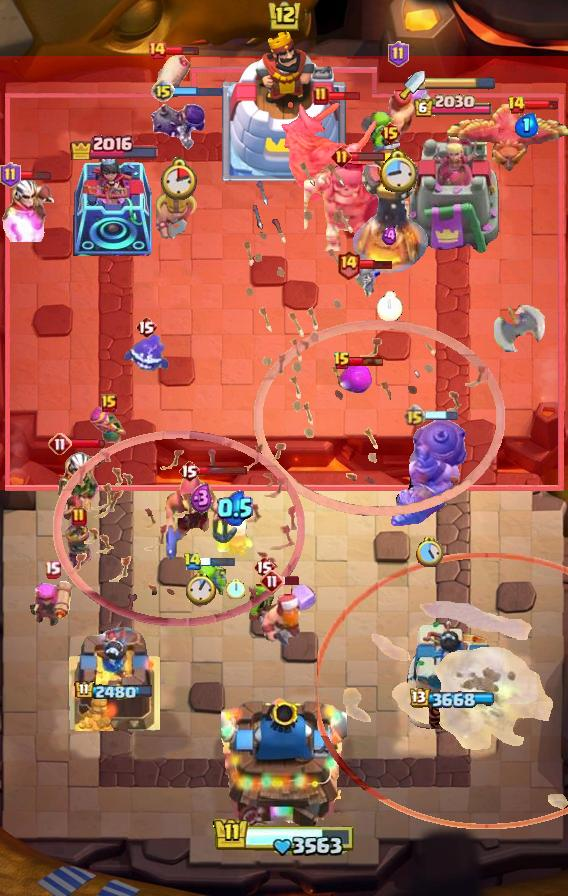bar: (406, 122, 500, 256)
bomber-evolution: (63, 522, 95, 572)
cannon: (90, 406, 128, 454)
clock: (212, 817, 356, 859)
electro-dragon: (351, 148, 429, 276)
electro-giant: (305, 158, 412, 251)
electro-spirit: (217, 490, 253, 526), (191, 483, 214, 514), (515, 113, 539, 139), (382, 225, 398, 247)
elixir: (378, 148, 417, 191), (159, 157, 196, 200), (186, 572, 216, 604), (416, 537, 443, 567), (377, 291, 403, 321), (226, 577, 246, 599)
emote: (172, 86, 224, 99), (198, 465, 248, 476), (200, 555, 237, 568), (523, 99, 559, 111), (349, 355, 385, 367), (423, 410, 459, 422), (70, 438, 106, 450), (327, 90, 362, 102), (16, 169, 51, 181), (349, 150, 386, 161), (164, 45, 200, 56), (358, 259, 394, 270), (281, 574, 301, 585)
fireball: (162, 472, 240, 564)
giant: (148, 52, 194, 104)
goblin: (355, 262, 381, 300)
goblin-ball: (148, 94, 208, 152)
goblin-giant: (154, 184, 198, 242)
golemite: (280, 97, 380, 205)
king-tower: (222, 31, 346, 181), (221, 690, 347, 826)
king-tower-bar: (425, 77, 495, 91)
mighty-miner: (361, 67, 435, 149), (259, 578, 319, 652)
miner: (337, 365, 373, 395)
mother-witch: (444, 104, 568, 178)
queen-tower: (404, 617, 502, 731), (68, 627, 160, 731), (73, 158, 155, 256)
royal-ghost: (317, 553, 567, 829)
royal-giant: (492, 288, 546, 352)
selected: (68, 132, 159, 160), (413, 94, 493, 119), (411, 688, 498, 710), (74, 680, 154, 702)
skeleton-barrel: (242, 158, 506, 518), (53, 429, 305, 627)
skeleton-king: (44, 447, 112, 523), (0, 178, 56, 242)
spear-goblin: (123, 333, 169, 377)
text: (335, 249, 360, 280), (151, 79, 175, 103), (48, 432, 72, 456), (260, 569, 284, 593), (379, 121, 402, 145), (387, 41, 408, 67), (402, 405, 425, 428), (135, 315, 157, 339), (178, 459, 200, 483), (253, 555, 275, 579), (0, 162, 20, 188), (332, 145, 353, 167), (147, 40, 167, 60), (507, 95, 526, 115), (333, 351, 351, 371), (182, 553, 201, 571), (43, 561, 60, 580), (313, 86, 329, 106), (71, 507, 87, 527), (101, 394, 117, 412)
tombstone: (214, 501, 256, 559), (29, 576, 74, 626)
wizard: (388, 415, 470, 529)
zap: (363, 102, 405, 160), (186, 563, 228, 605), (245, 580, 283, 626)
